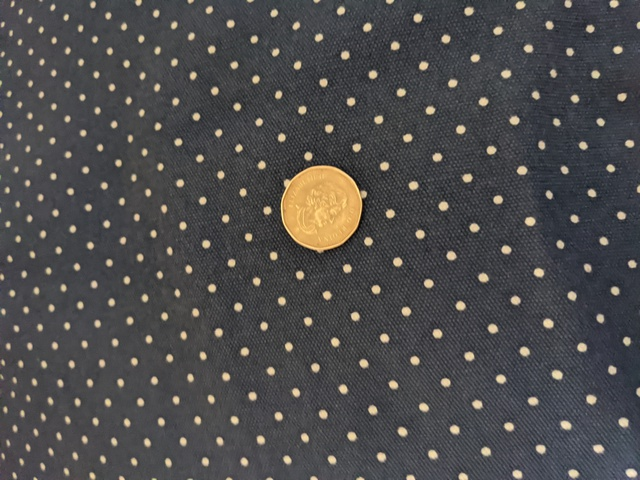loonie: (270, 150, 370, 255)
